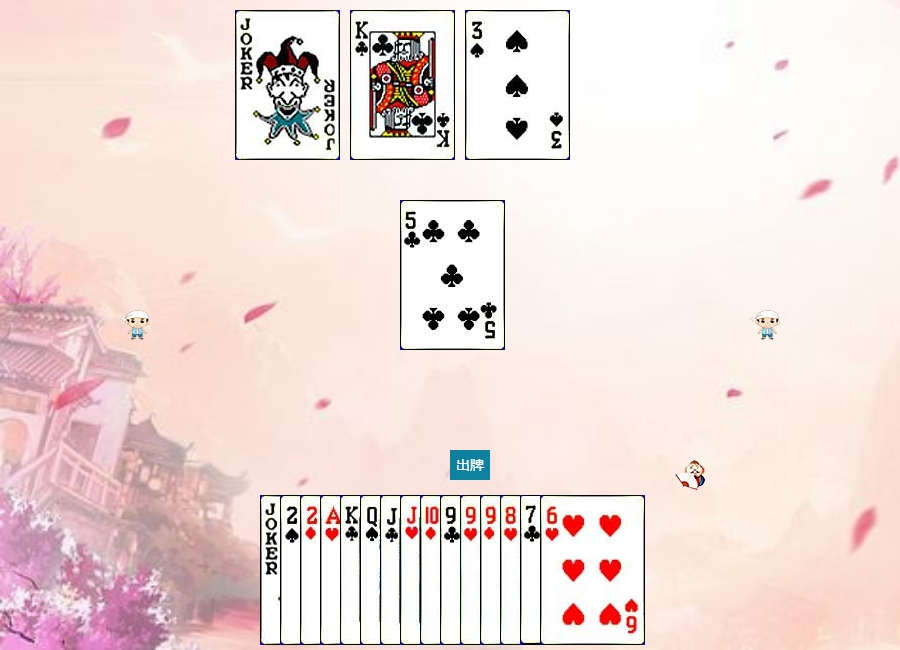10~1: (420, 495, 525, 645)
11~2: (380, 495, 485, 645)
11~3: (400, 495, 505, 645)
12~4: (360, 495, 465, 645)
13~2: (350, 10, 455, 160), (340, 495, 445, 645)
14~3: (320, 495, 425, 645)
15~1: (300, 495, 405, 645)
15~4: (280, 495, 385, 645)
17~3: (235, 10, 340, 160), (260, 495, 365, 645)
3~4: (465, 10, 570, 160)
5~2: (400, 200, 505, 350)
6~3: (540, 495, 645, 645)
7~2: (520, 495, 625, 645)
8~3: (500, 495, 605, 645)
9~1: (480, 495, 585, 645)
9~2: (440, 495, 545, 645)
9~3: (460, 495, 565, 645)
